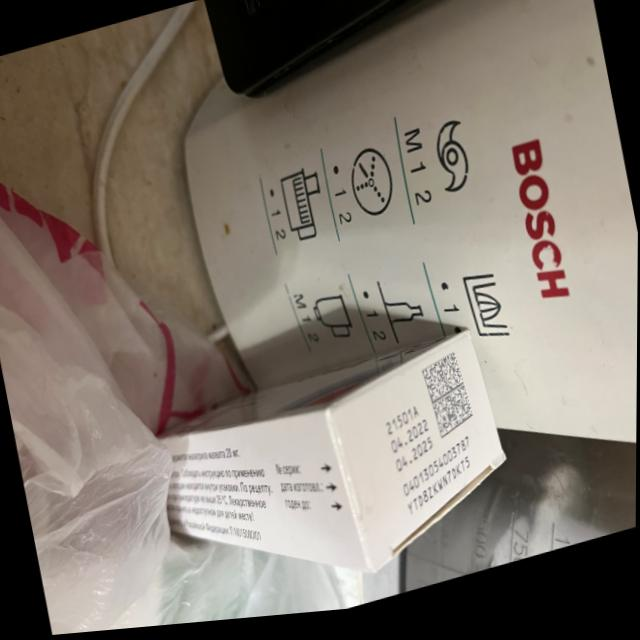datamatrix: (420, 359, 477, 452)
